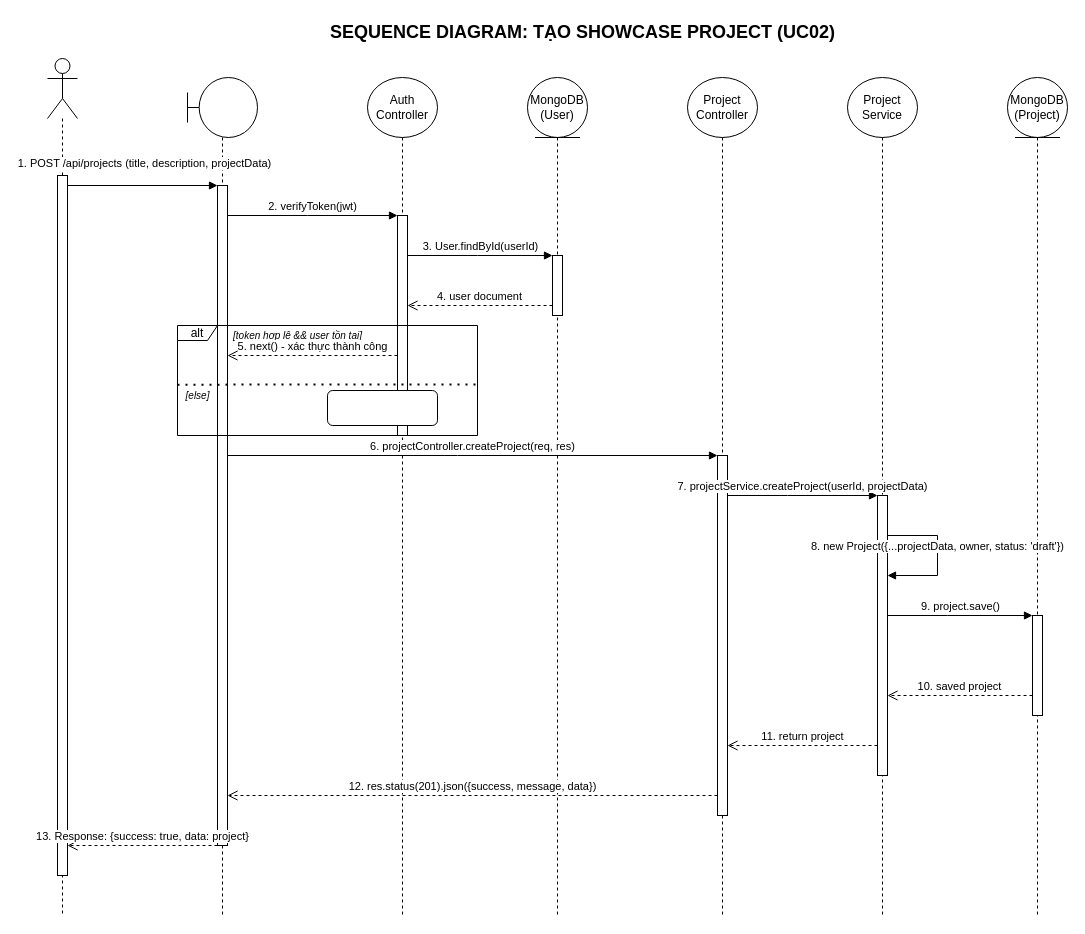
This 1085x934 diagram has some shape labels left out. The centre of each missing label's shape, as x and y in pixels:
Client (Browser): the point at 62,88
Server: the point at 222,107
throw Error "Invalid credentials": the point at 382,408
